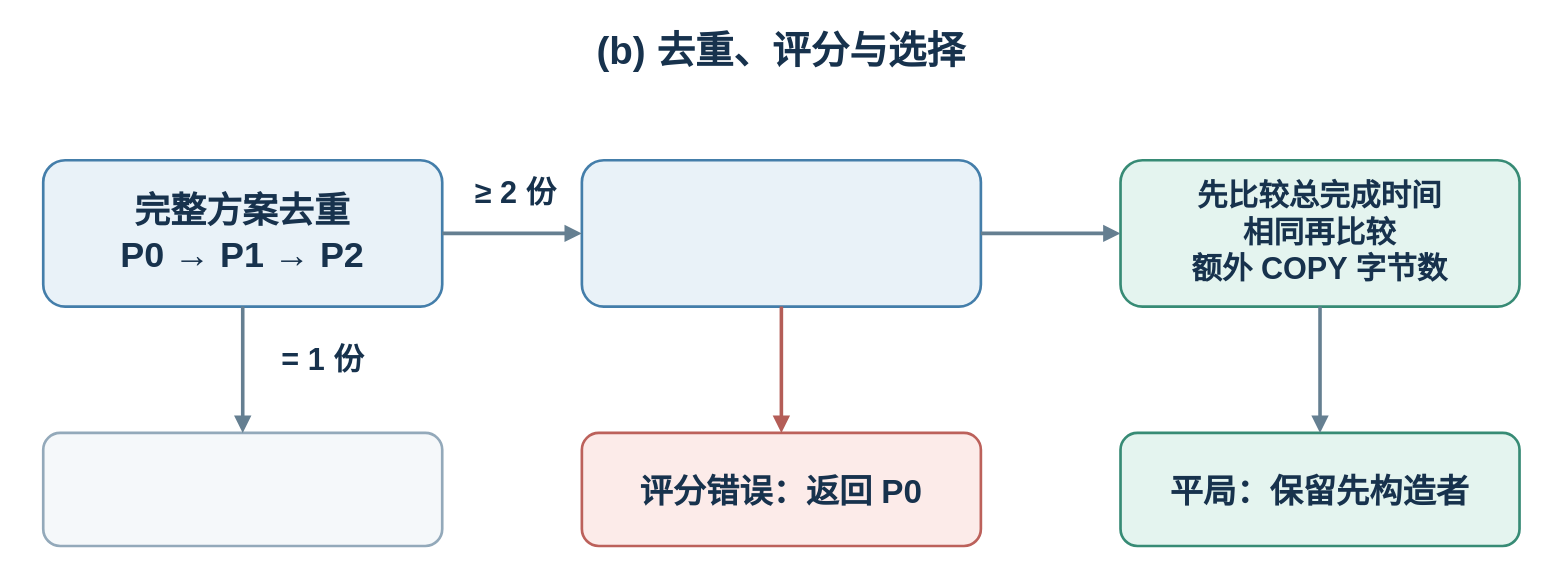
This 1561x569 diagram has some shape labels left out. The shapes that lost their labels are listed below. From the top down, each one's centre as x and y in pixels, then its label:
At point (781, 232): "逐份评分 总请求 ≤ 3".
At point (242, 489): "仅一份：直接返回 P0".
